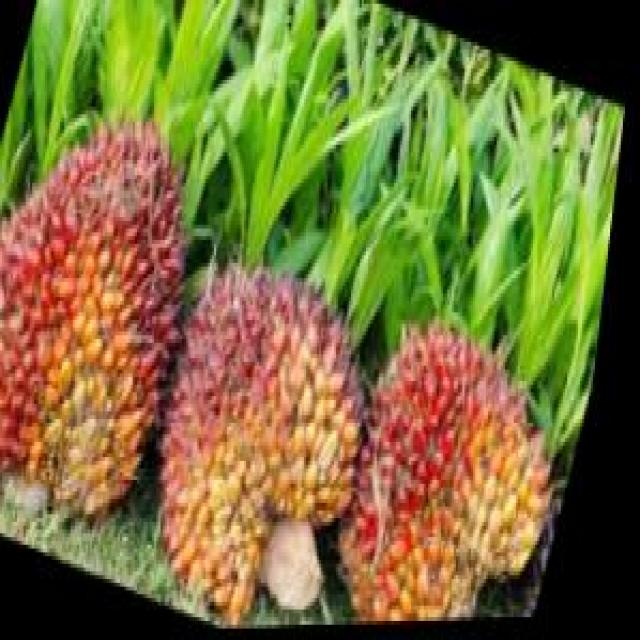Ripefruit: (0, 68, 233, 560), (134, 223, 410, 634), (327, 263, 602, 628)
